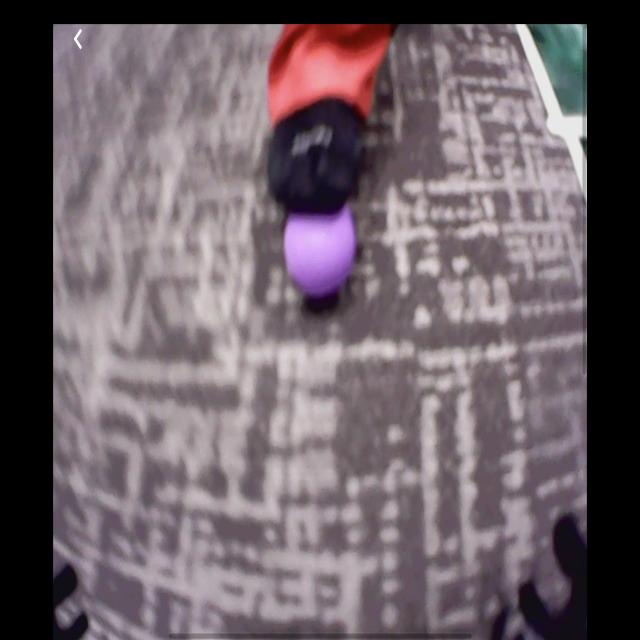ball: (285, 202, 356, 296)
